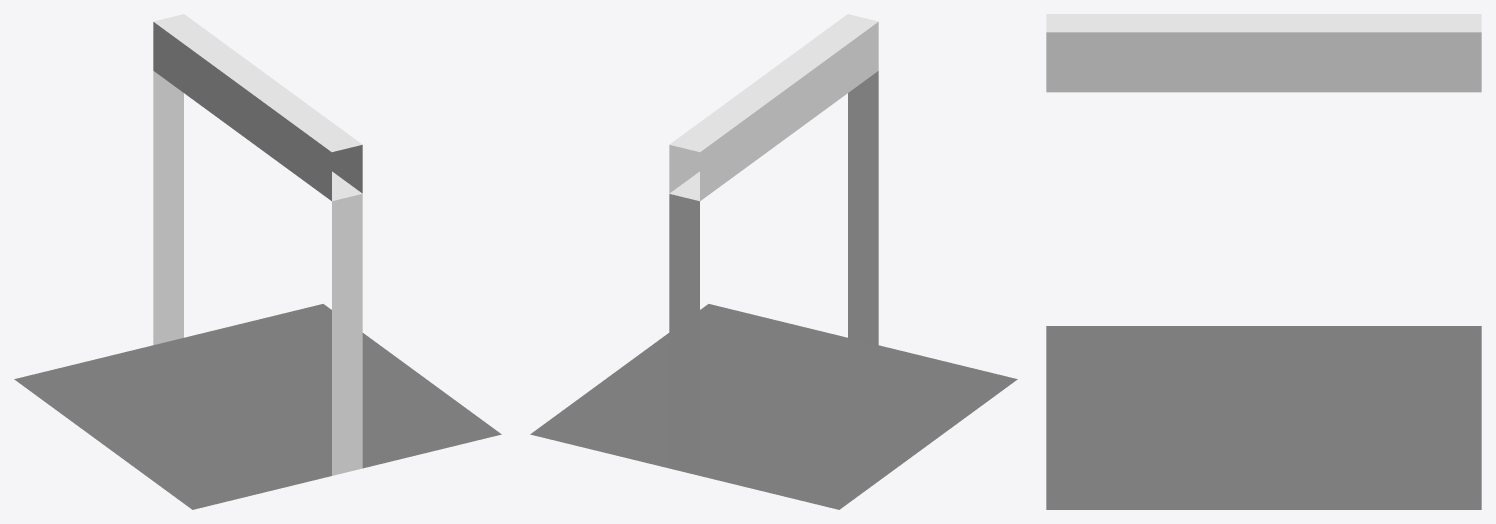
Rendered from I_Wall_Straight_Elevator.fbx.
3 renders of one model, left to right at view 1: azimuth 30°, elevation 25°; view 2: azimuth 150°, elevation 25°; view 3: azimuth 270°, elevation 25°, orthographic. The views are drawn at different scales.
Parts seen in each view (by area): view 1: I_Wall_Straight_Elevator; view 2: I_Wall_Straight_Elevator; view 3: I_Wall_Straight_Elevator.
Boxes of the visible parts, <box> form: I_Wall_Straight_Elevator: <box>14,14,501,509</box>; I_Wall_Straight_Elevator: <box>530,14,1017,509</box>; I_Wall_Straight_Elevator: <box>1046,14,1481,509</box>.
Size of the model in its own units: 200 by 200 by 200.
